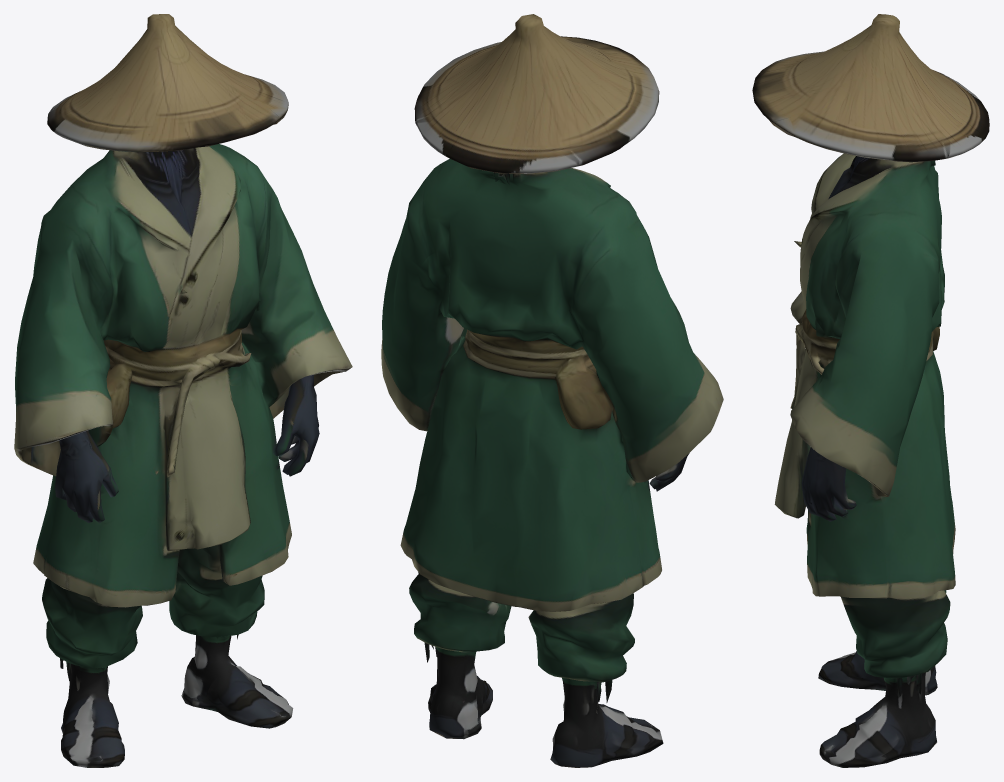
File: fisher_A_h25.glb
3 views of the same model, side by side, from view 1: azimuth 30°, elevation 25°; view 2: azimuth 150°, elevation 25°; view 3: azimuth 270°, elevation 25° (orthographic). The views are drawn at different scales.
Visible parts, largest first — view 1: tripo_node_b1c60db2-8924-4b32-9cf6-51aec68208c5; view 2: tripo_node_b1c60db2-8924-4b32-9cf6-51aec68208c5; view 3: tripo_node_b1c60db2-8924-4b32-9cf6-51aec68208c5.
Part boxes in pixels (left/top/right/bottom): tripo_node_b1c60db2-8924-4b32-9cf6-51aec68208c5: left=14, top=14, right=352, bottom=767; tripo_node_b1c60db2-8924-4b32-9cf6-51aec68208c5: left=381, top=14, right=723, bottom=767; tripo_node_b1c60db2-8924-4b32-9cf6-51aec68208c5: left=752, top=14, right=989, bottom=767.
Size of the model in its own units: 0.4816 by 0.9996 by 0.3077.
Materials: 1 (1 with a texture image).
